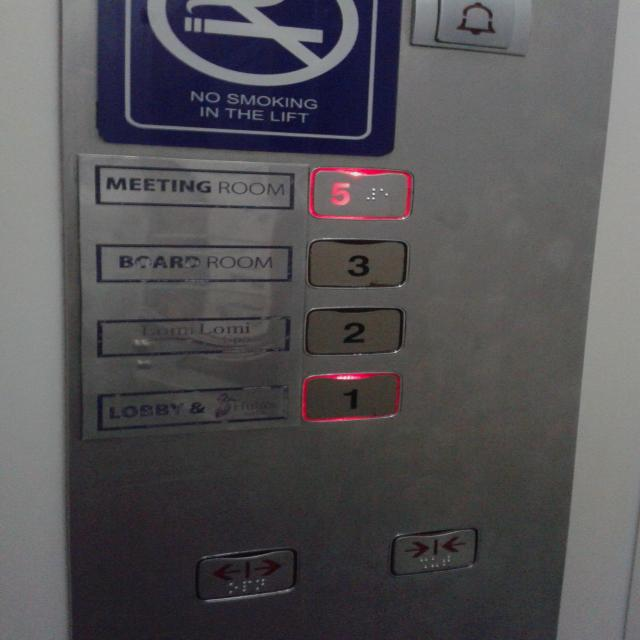1: (300, 370, 404, 425)
2: (301, 303, 405, 359)
3: (303, 234, 410, 291)
5: (303, 166, 414, 222)
alarm: (426, 0, 520, 52)
close: (388, 524, 487, 578)
open: (192, 542, 303, 607)
